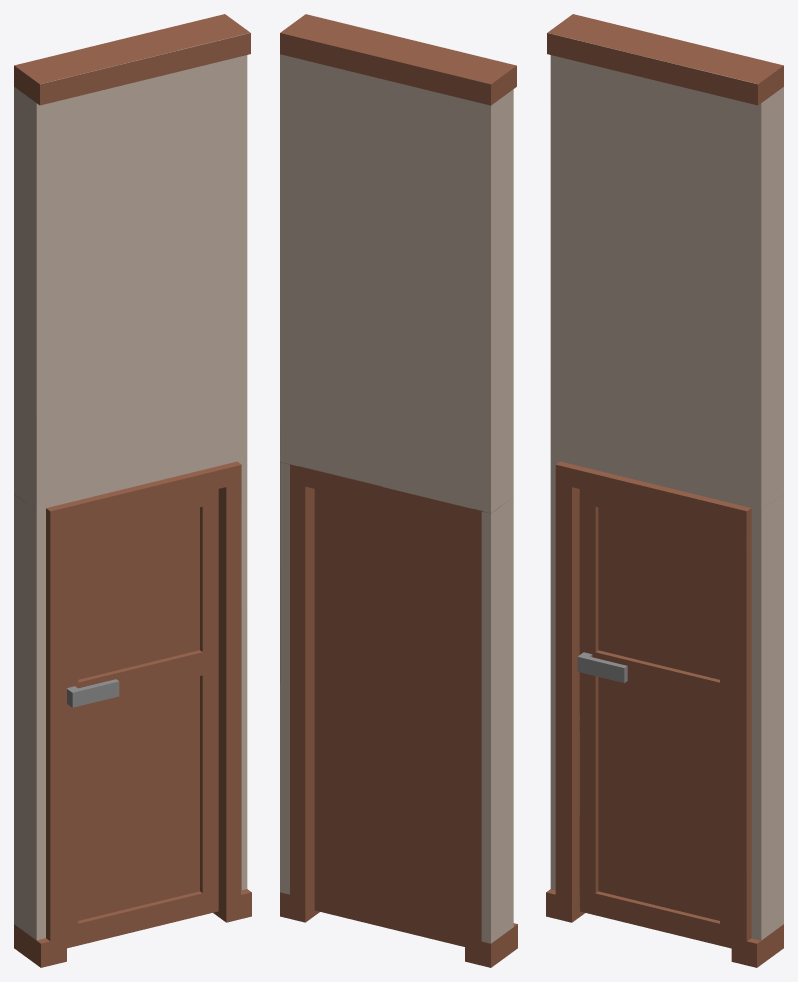
File: door.fbx
The picture shows the model from 3 angles, left to right: view 1: azimuth 30°, elevation 25°; view 2: azimuth 150°, elevation 25°; view 3: azimuth 330°, elevation 25°; orthographic projection.
Parts seen in each view (by area): view 1: door_frame_taller, door_taller; view 2: door_frame_taller, door_taller; view 3: door_frame_taller, door_taller.
Boxes of the visible parts, bbox=[...] form: door_frame_taller: bbox=[14, 14, 251, 967]; door_taller: bbox=[67, 489, 218, 948]; door_frame_taller: bbox=[280, 14, 517, 967]; door_taller: bbox=[314, 489, 464, 946]; door_frame_taller: bbox=[546, 14, 783, 967]; door_taller: bbox=[577, 489, 731, 948].
Size of the model in its own units: 1 by 4 by 0.2211.
